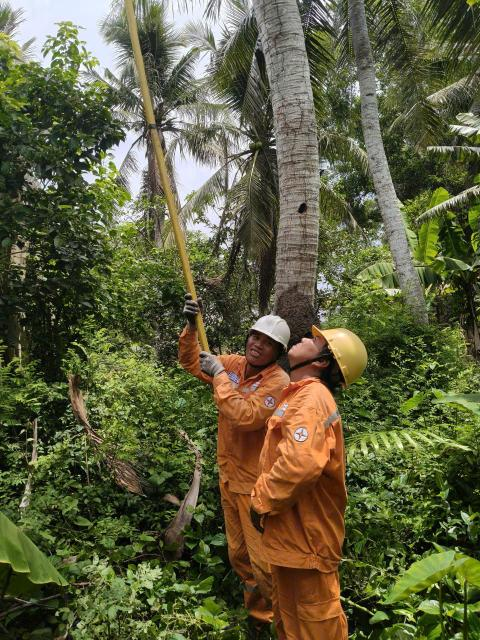gloves: (173, 289, 212, 324), (193, 346, 227, 384)
helmet: (306, 316, 382, 392), (246, 310, 295, 351)
